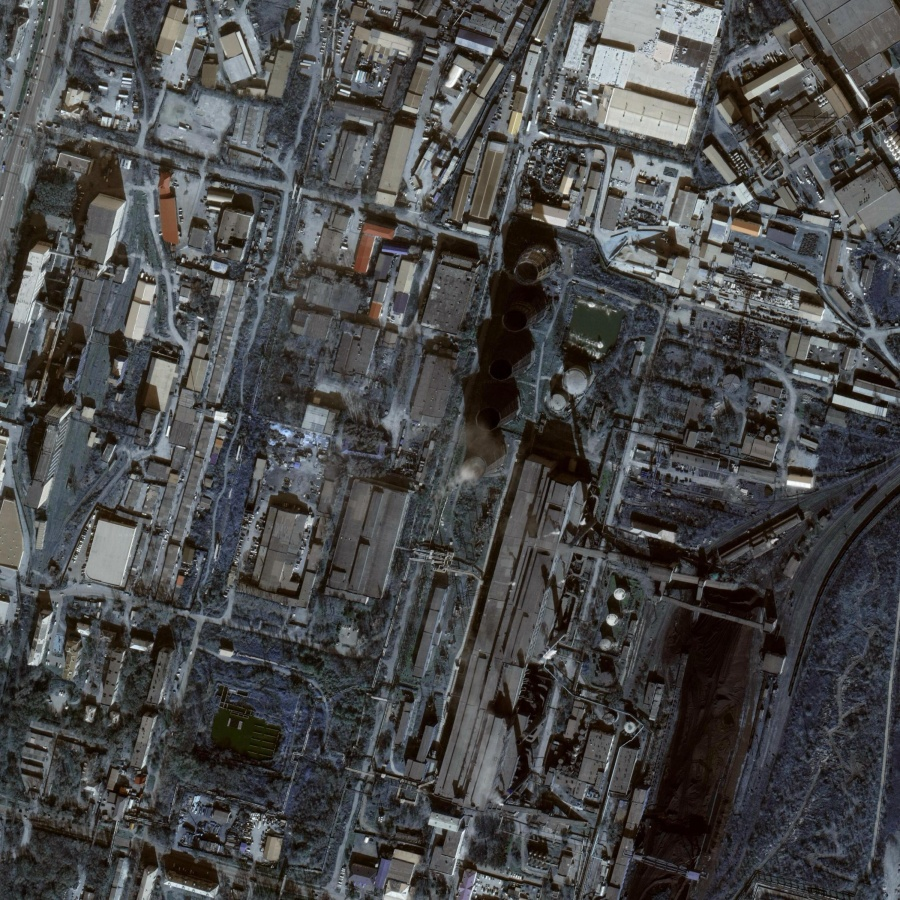PowerPlant: (430, 196, 600, 535)
